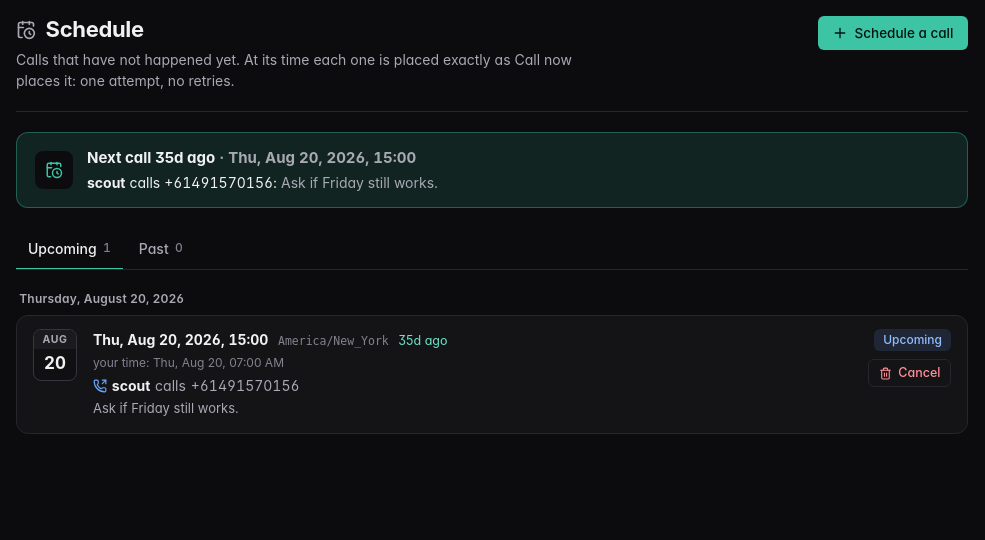
Schedule screen › cancels one Schedule by id and shows a refusal when it is too late
The width and height of the screenshot is (985, 540).
Click the button with test id "schedule-cancel-sch-000000000001": (910, 373) [868, 359, 951, 387]
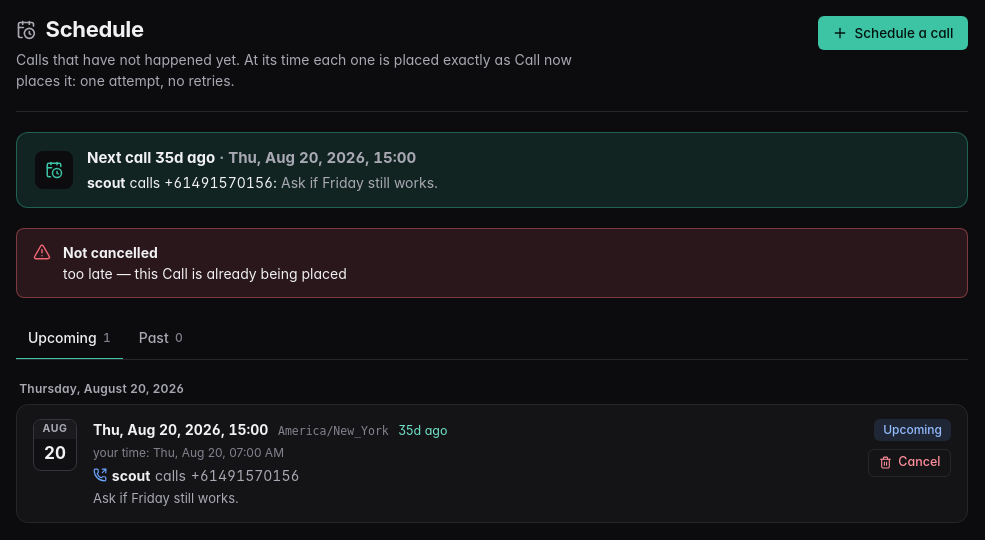
Result: the element with test id "schedule-error" shows "already being placed" at [63, 265, 347, 282]
